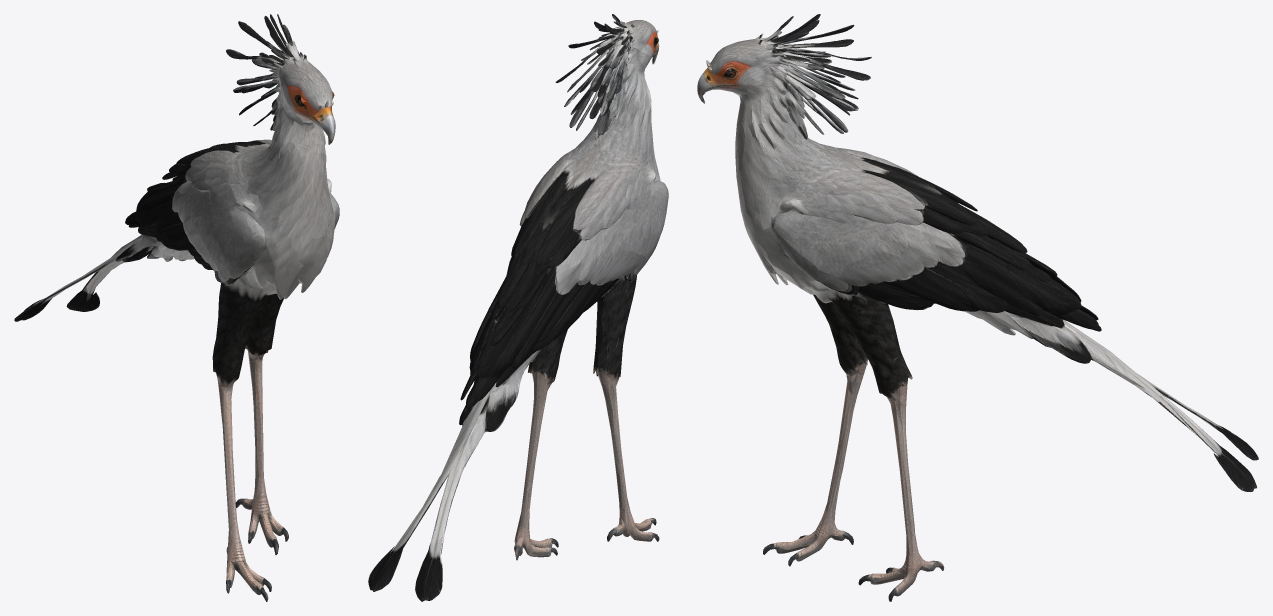
File: secretarybird.glb
3 renders of one model, left to right at view 1: azimuth 30°, elevation 25°; view 2: azimuth 150°, elevation 25°; view 3: azimuth 270°, elevation 25°, orthographic. The views are drawn at different scales.
Size of the model in its own units: 0.3842 by 1.89 by 1.71.
1 material, 1 textured.
